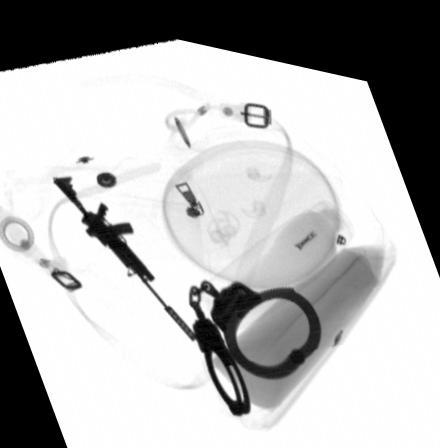Gun: (49, 170, 199, 334)
HandCuffs: (186, 268, 323, 407)
